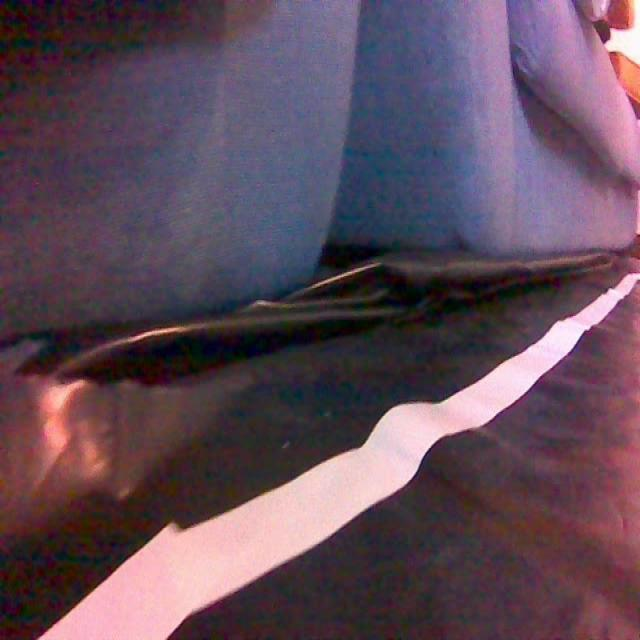LineaCarril: (41, 274, 640, 638)
